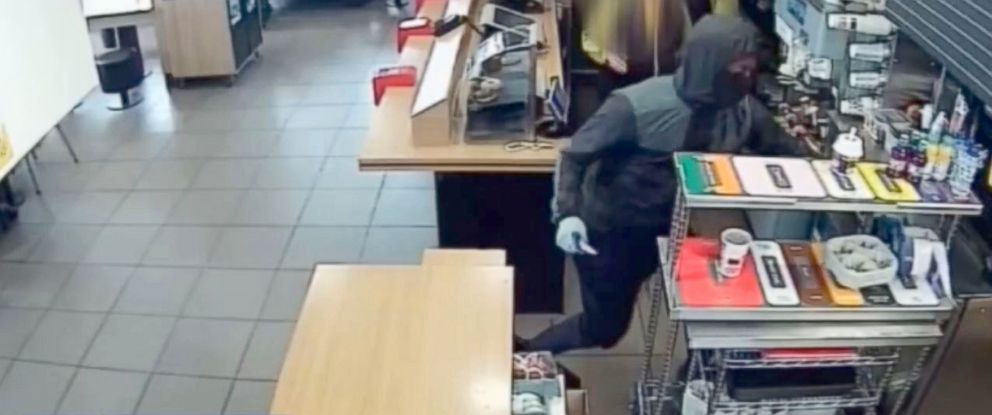balaclava: (676, 10, 756, 111)
knife: (564, 223, 600, 263)
